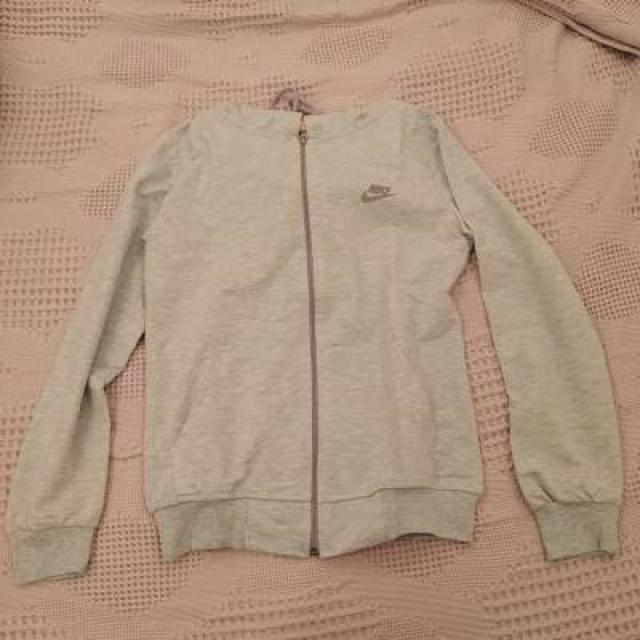Clothes -Biodegradable-: (6, 96, 621, 584)
